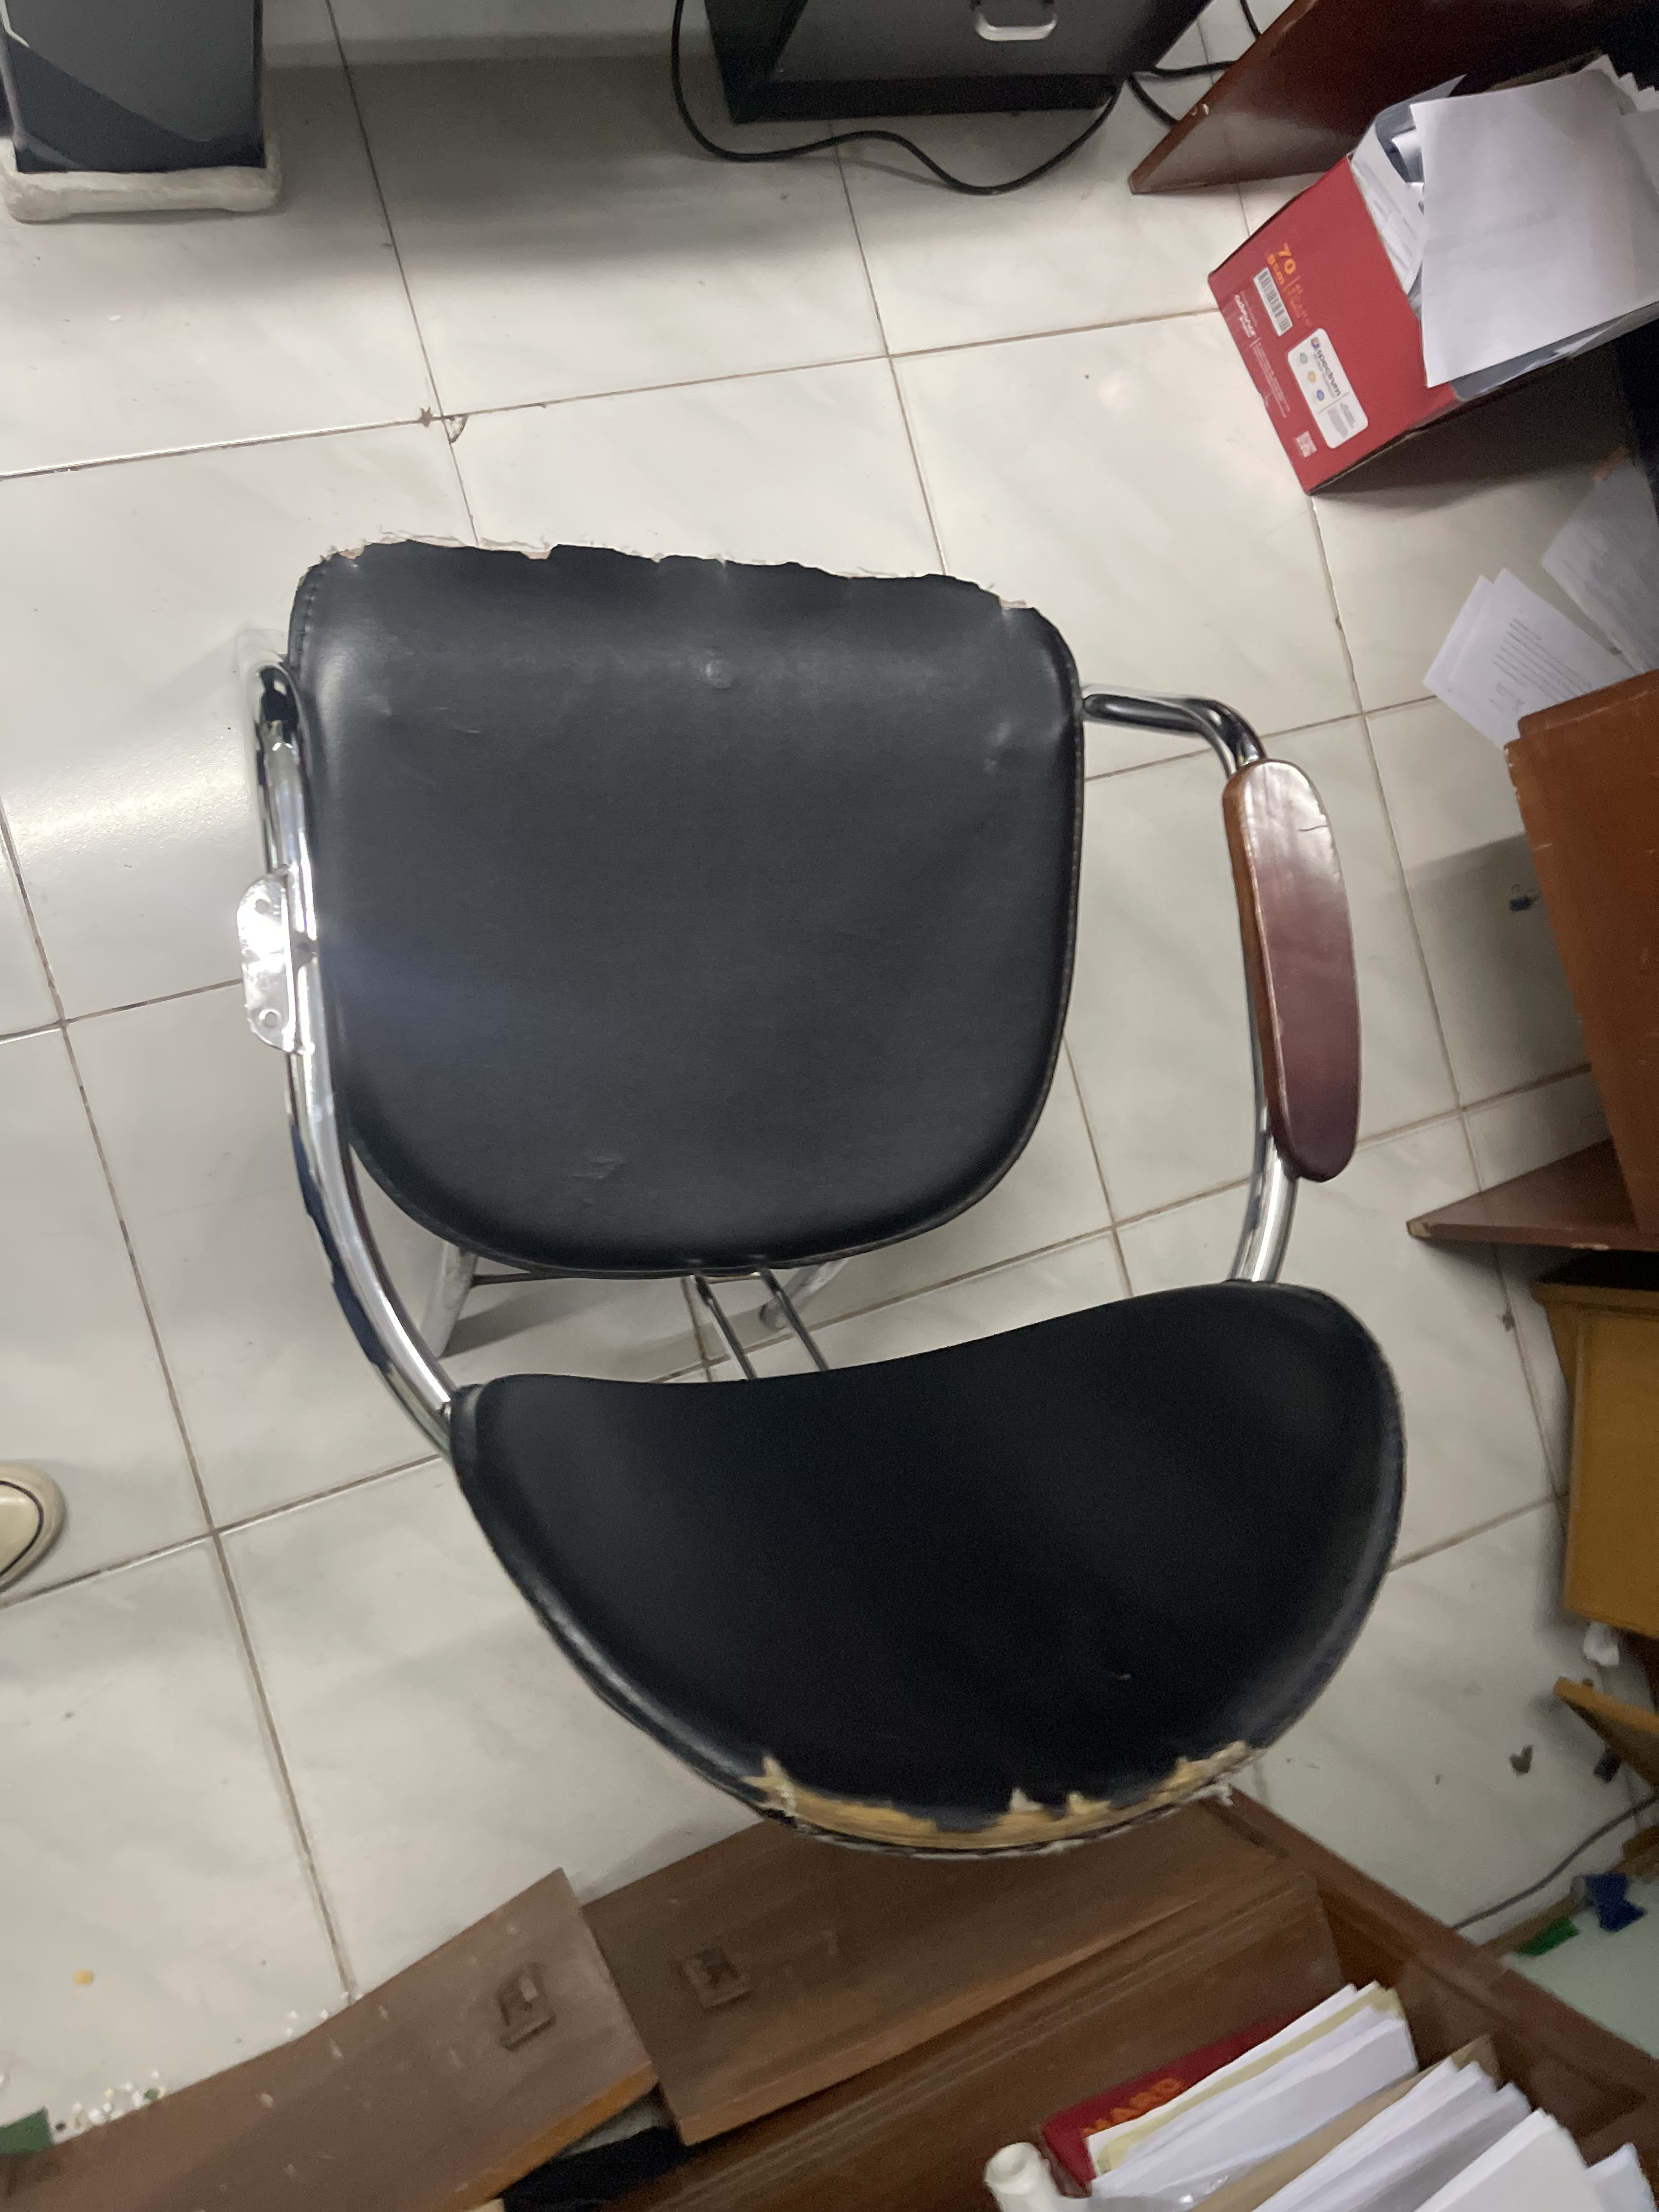chair1: (244, 550, 1417, 1879)
